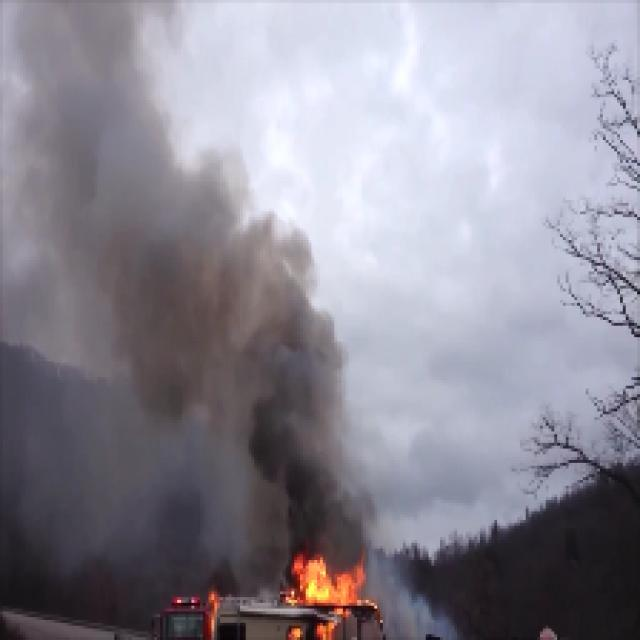fire: (295, 559, 360, 611)
smoke: (118, 193, 208, 382), (230, 243, 296, 452), (295, 428, 355, 542)
